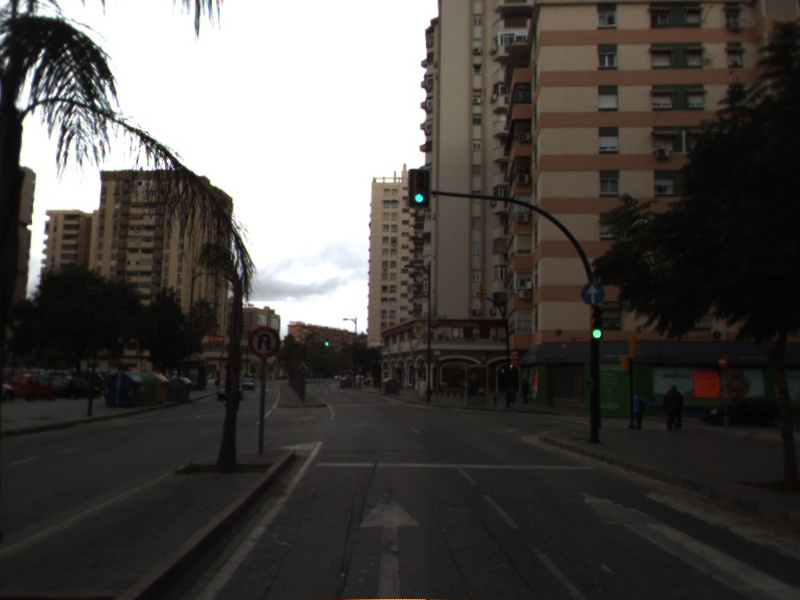STRAIGHT: (355, 488, 426, 600)
